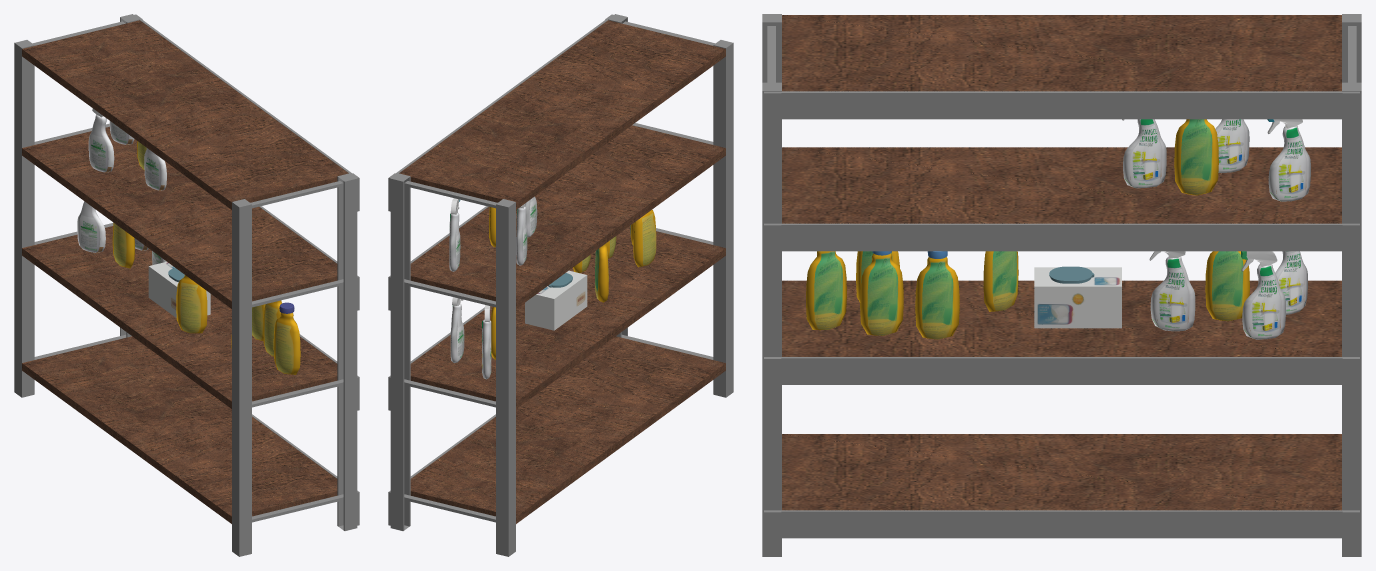
The model's file is SupplyShelf.glb.
3 views of the same model, side by side, from view 1: azimuth 30°, elevation 25°; view 2: azimuth 150°, elevation 25°; view 3: azimuth 270°, elevation 25° (orthographic). The views are drawn at different scales.
Visible parts, largest first — view 1: Cube.013, Cube, Cube.003, Cube.009, Cube.005, Cube.036, Cube.032, Cube.029, Cube.019, Cube.023, Cube.004, Cube.016 (+6 smaller); view 2: Cube.013, Cube, Cube.003, Cube.009, Cube.005, Cube.029, Cube.033, Cube.004, Cube.016, Cube.012, Cube.008, Cube.036 (+5 smaller); view 3: Cube, Cube.013, Cube.009, Cube.005, Cube.001, Cube.010, Cube.014, Cube.006, Cube.003, Cube.029, Cube.034, Cube.035 (+15 smaller).
Part boxes in pixels (x1=…): Cube.013: x1=22, y1=20, x2=348, y2=209; Cube: x1=22, y1=336, x2=337, y2=523; Cube.003: x1=14, y1=14, x2=357, y2=556; Cube.009: x1=22, y1=126, x2=337, y2=308; Cube.005: x1=22, y1=226, x2=337, y2=408; Cube.036: x1=176, y1=275, x2=207, y2=333; Cube.032: x1=273, y1=312, x2=300, y2=374; Cube.029: x1=148, y1=261, x2=210, y2=317; Cube.019: x1=88, y1=115, x2=114, y2=172; Cube.023: x1=77, y1=201, x2=105, y2=252; Cube.004: x1=34, y1=334, x2=343, y2=522; Cube.016: x1=32, y1=21, x2=343, y2=208; Cube.013: x1=399, y1=20, x2=725, y2=209; Cube: x1=410, y1=336, x2=725, y2=523; Cube.003: x1=390, y1=14, x2=733, y2=556; Cube.009: x1=410, y1=125, x2=725, y2=308; Cube.005: x1=410, y1=226, x2=725, y2=408; Cube.029: x1=525, y1=270, x2=587, y2=330; Cube.033: x1=633, y1=210, x2=656, y2=267; Cube.004: x1=404, y1=334, x2=713, y2=522; Cube.016: x1=404, y1=21, x2=715, y2=208; Cube.012: x1=404, y1=123, x2=713, y2=307; Cube.008: x1=404, y1=228, x2=713, y2=407; Cube.036: x1=595, y1=243, x2=608, y2=302; Cube: x1=782, y1=434, x2=1341, y2=510; Cube.013: x1=782, y1=15, x2=1341, y2=91; Cube.009: x1=782, y1=147, x2=1341, y2=223; Cube.005: x1=782, y1=280, x2=1341, y2=356; Cube.001: x1=781, y1=510, x2=1342, y2=538; Cube.010: x1=781, y1=223, x2=1342, y2=251; Cube.014: x1=781, y1=91, x2=1342, y2=119; Cube.006: x1=781, y1=357, x2=1342, y2=384; Cube.003: x1=762, y1=14, x2=1361, y2=556; Cube.029: x1=1034, y1=267, x2=1121, y2=328; Cube.034: x1=915, y1=257, x2=959, y2=339; Cube.035: x1=860, y1=253, x2=903, y2=335.
Size of the model in its own units: 1.28 by 3.53 by 4.12.
17 materials, 7 textured.
